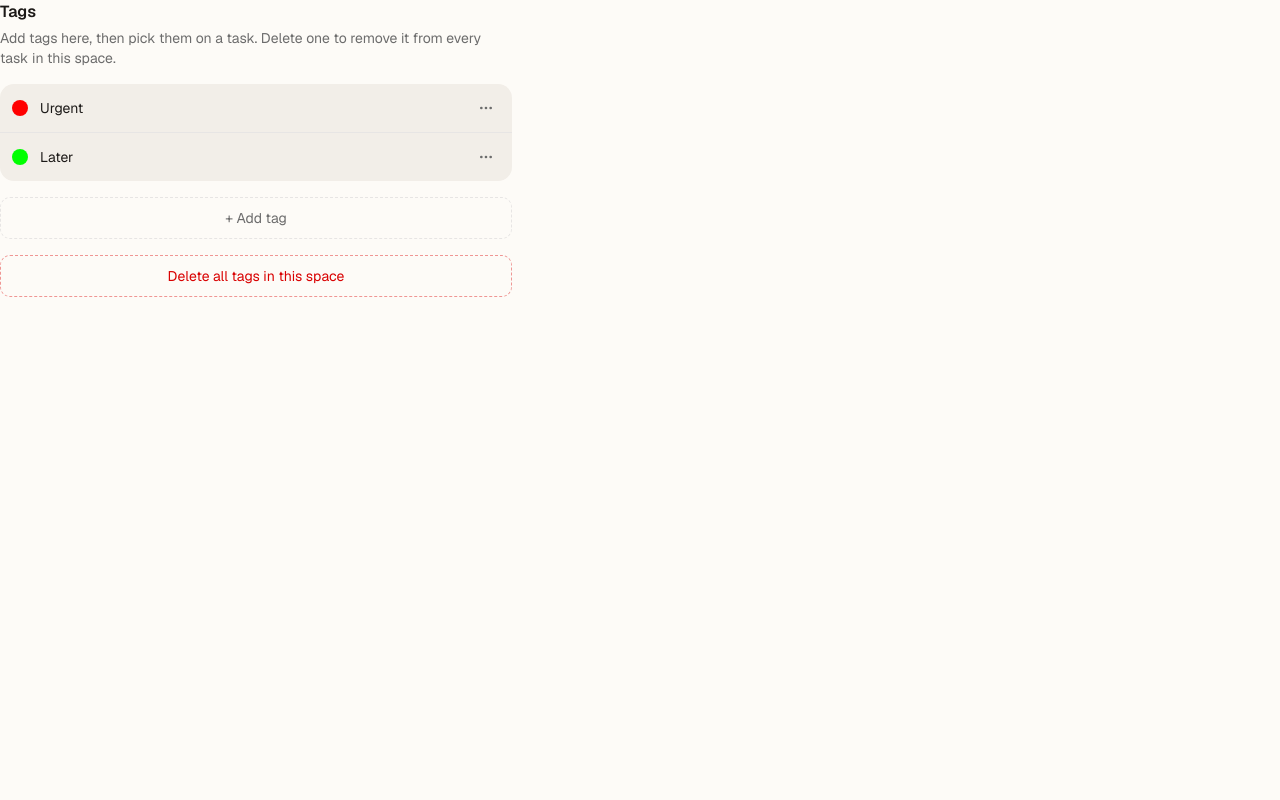
Scenario: TagManager › keeps the delete-all popup open with the message when it is refused
Step 1. Click the button "Delete all tags in this space" → (256, 276), box [0,255,512,297]
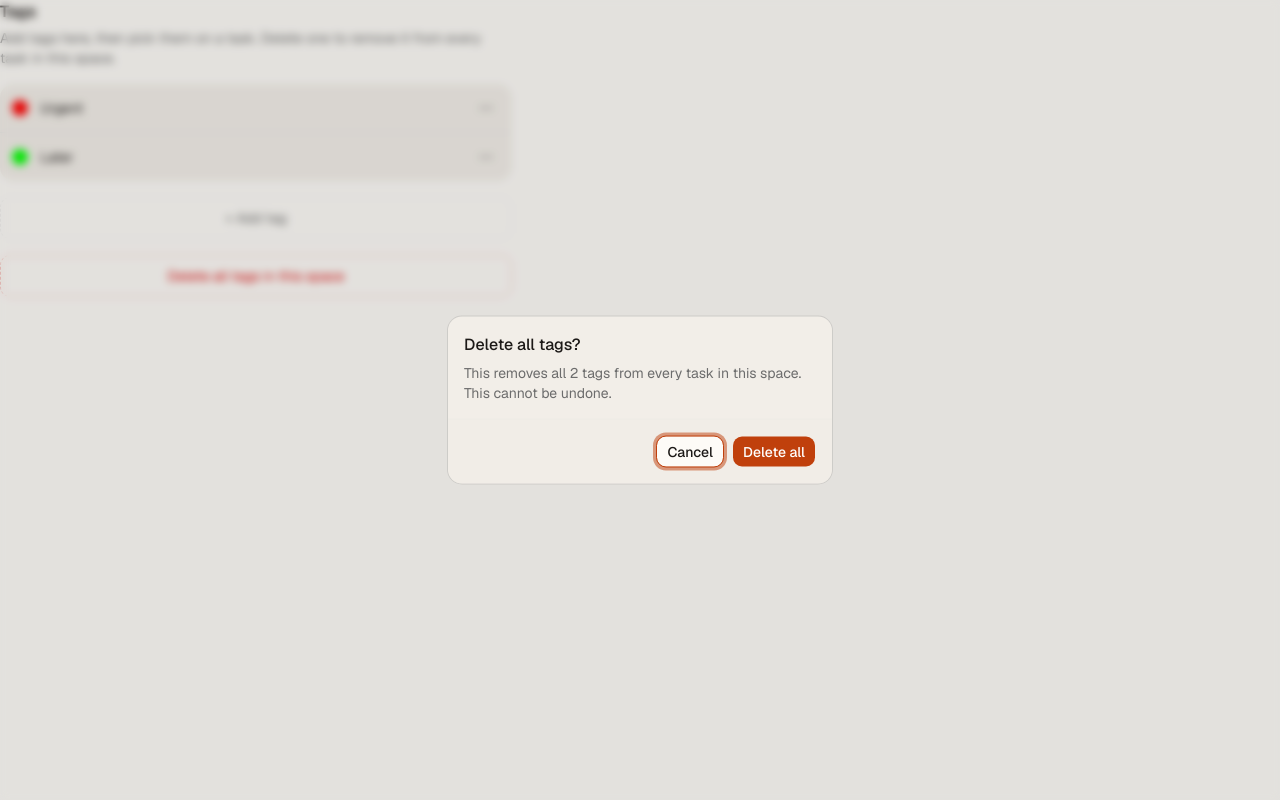
Step 2. Click the button "Delete all" → (774, 452), box [732,436,816,468]
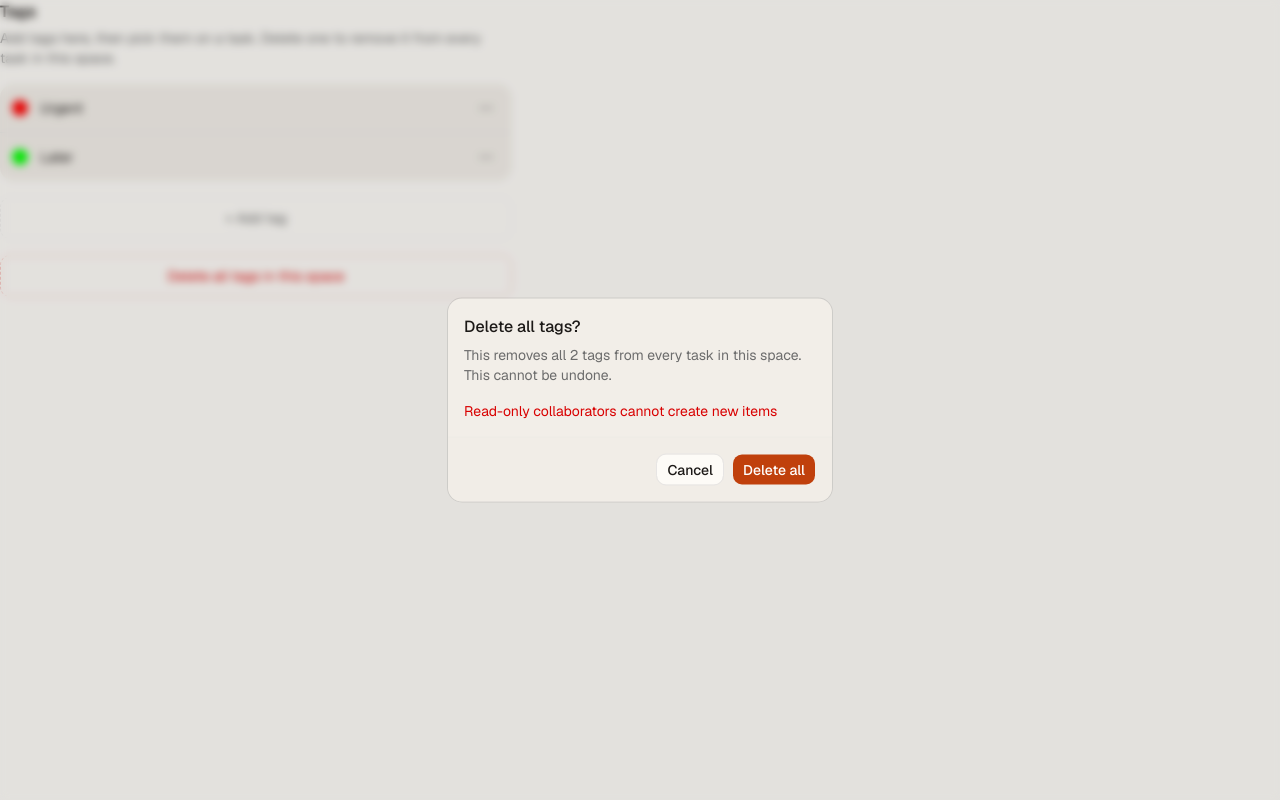
Expected: the text "Read-only collaborators cannot create new items" is shown, [464,400,816,420]
